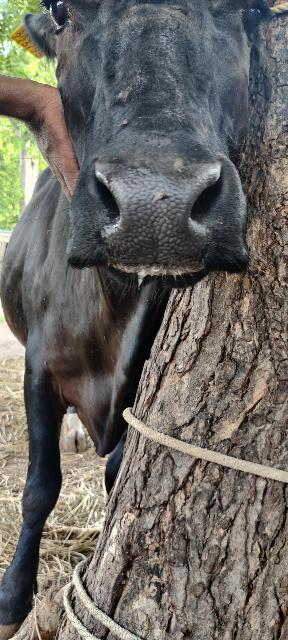Muzzle: (96, 161, 208, 269)
